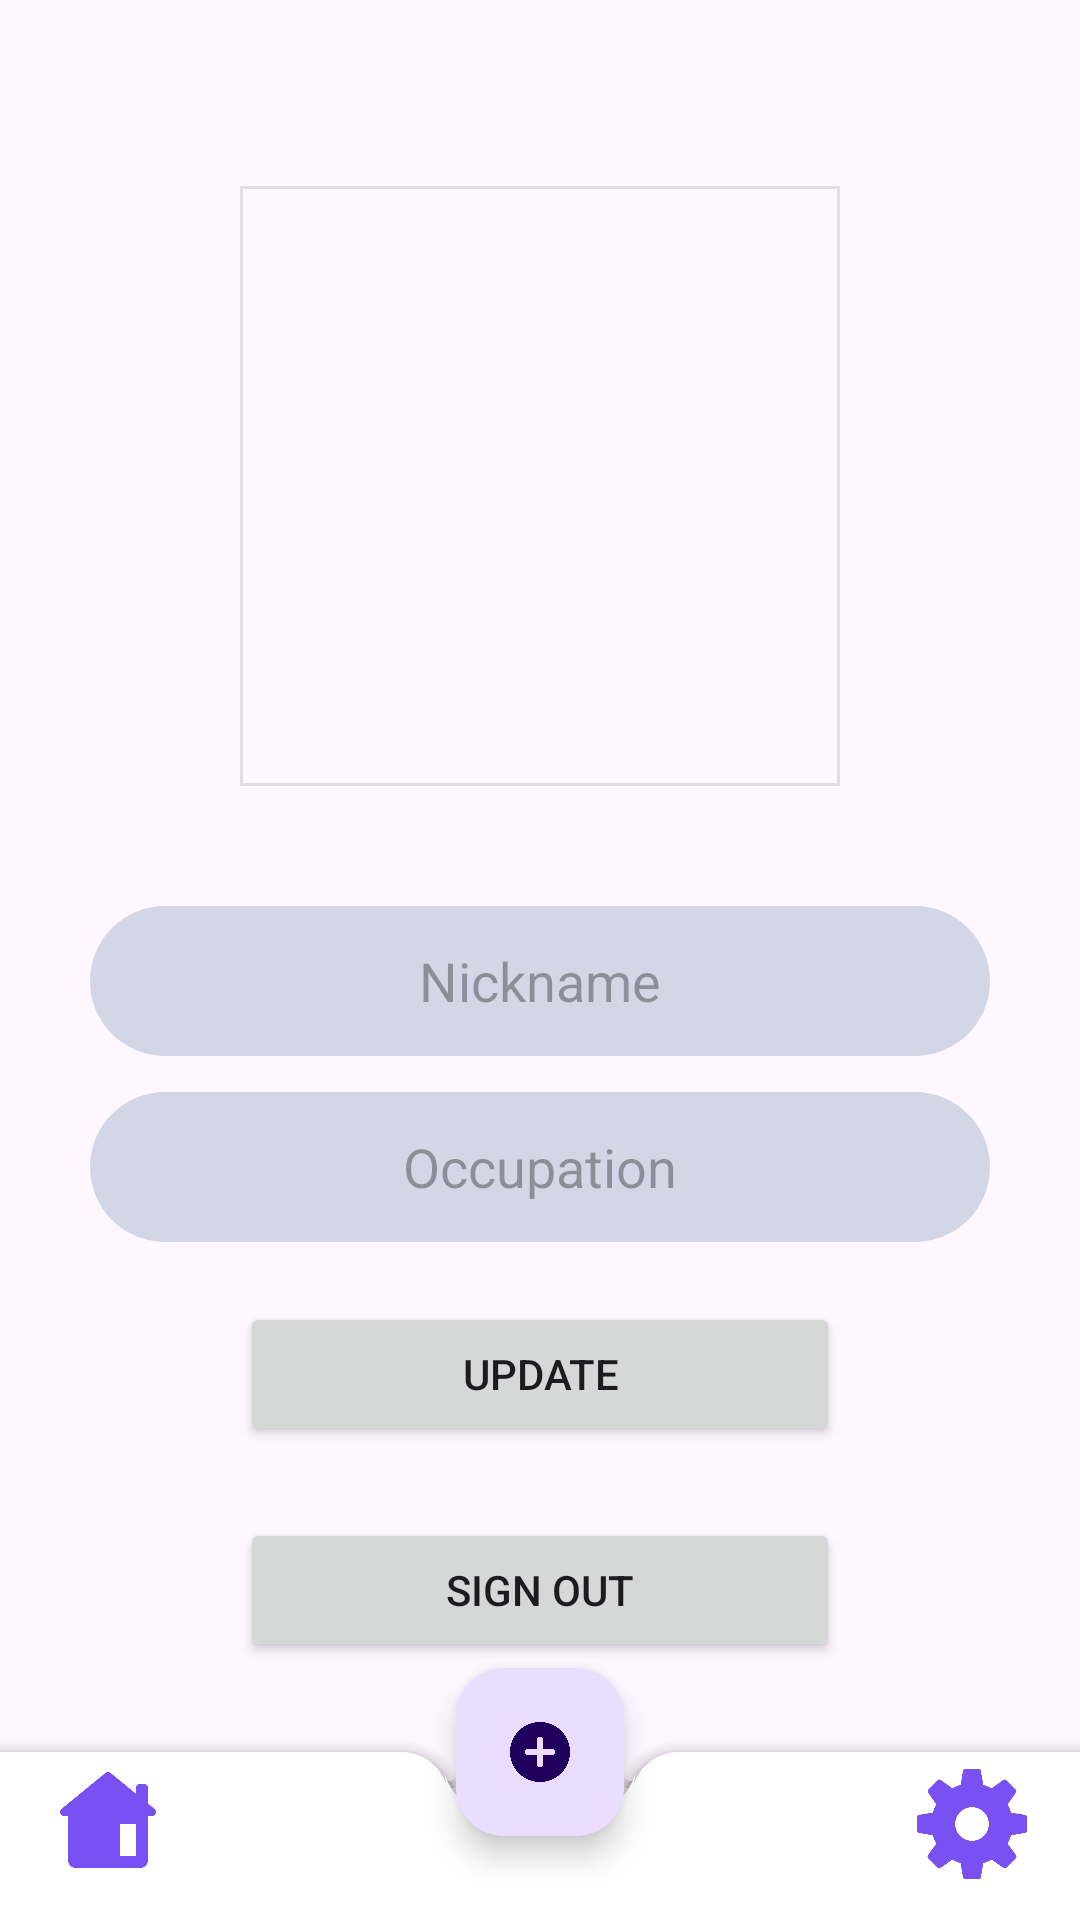

Named icons in this screenshot (1080 × 1920) and their bounding boxes, [x1=x1, y1=y1, x2=x2, y2=y2]:
homeicon: [x1=60, y1=1772, x2=156, y2=1868]
plusbutton: [x1=456, y1=1668, x2=624, y2=1836]
